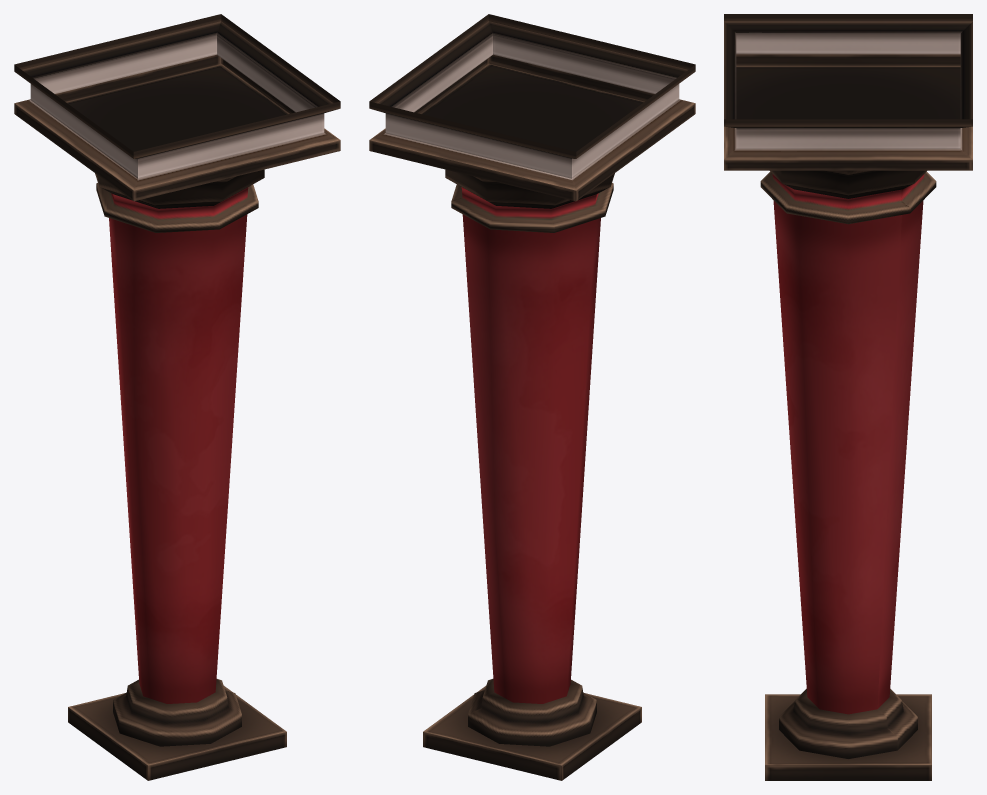
Rendered from em_column_atrium_short.fbx.
3 views of the same model, side by side, from view 1: azimuth 30°, elevation 25°; view 2: azimuth 150°, elevation 25°; view 3: azimuth 270°, elevation 25° (orthographic). The views are drawn at different scales.
Parts seen in each view (by area): view 1: polySurface167, polySurface168, polySurface166; view 2: polySurface167, polySurface168, polySurface166; view 3: polySurface167, polySurface168, polySurface166.
Part boxes in pixels (x1,y1,x2,y2): polySurface167: (95,169,264,746); polySurface168: (14,14,340,201); polySurface166: (68,686,286,780); polySurface167: (445,169,614,746); polySurface168: (369,14,695,201); polySurface166: (423,686,641,780); polySurface167: (760,170,936,758); polySurface168: (724,14,972,170); polySurface166: (765,694,931,780).
Bounding box in the file's own units: 2 × 6.02 × 2.
